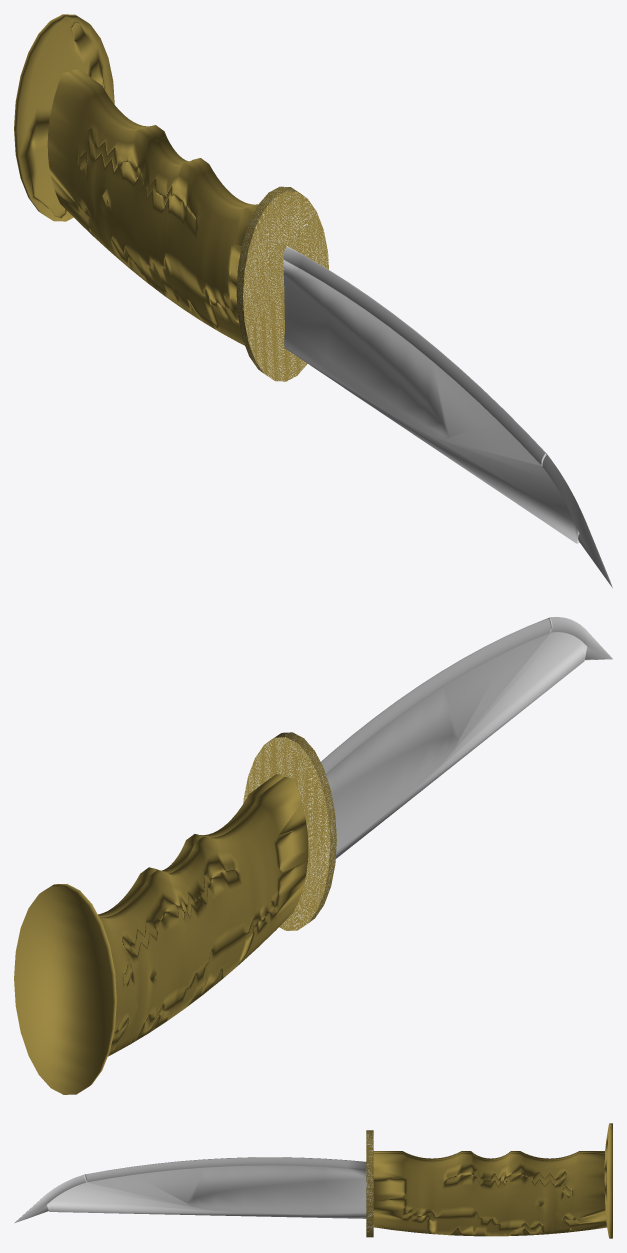
Rendered from model_align.obj.
The picture shows the model from 3 angles, top to bottom: view 1: azimuth 30°, elevation 25°; view 2: azimuth 150°, elevation 25°; view 3: azimuth 270°, elevation 25°; orthographic projection. The views are drawn at different scales.
Visible parts, largest first — view 1: mesh5_mesh5-geometry, mesh3_mesh3-geometry, mesh4_mesh4-geometry, mesh1_mesh1-geometry, mesh2_mesh2-geometry; view 2: mesh3_mesh3-geometry, mesh5_mesh5-geometry, mesh1_mesh1-geometry, mesh4_mesh4-geometry, mesh2_mesh2-geometry; view 3: mesh2_mesh2-geometry, mesh6_mesh6-geometry, mesh1_mesh1-geometry, mesh4_mesh4-geometry, mesh3_mesh3-geometry.
Boxes of the visible parts, x1=… form: mesh5_mesh5-geometry: x1=283, y1=246, x2=612, y2=587; mesh3_mesh3-geometry: x1=47, y1=71, x2=256, y2=345; mesh4_mesh4-geometry: x1=236, y1=186, x2=328, y2=381; mesh1_mesh1-geometry: x1=14, y1=14, x2=114, y2=221; mesh2_mesh2-geometry: x1=70, y1=68, x2=257, y2=207; mesh3_mesh3-geometry: x1=99, y1=776, x2=308, y2=1056; mesh5_mesh5-geometry: x1=321, y1=617, x2=612, y2=858; mesh1_mesh1-geometry: x1=14, y1=884, x2=116, y2=1094; mesh4_mesh4-geometry: x1=243, y1=732, x2=336, y2=930; mesh2_mesh2-geometry: x1=98, y1=774, x2=284, y2=917; mesh2_mesh2-geometry: x1=373, y1=1153, x2=606, y2=1236; mesh6_mesh6-geometry: x1=14, y1=1157, x2=366, y2=1223; mesh1_mesh1-geometry: x1=604, y1=1123, x2=612, y2=1238; mesh4_mesh4-geometry: x1=366, y1=1130, x2=373, y2=1237; mesh3_mesh3-geometry: x1=373, y1=1151, x2=604, y2=1160.
Bounding box in the file's own units: 0.023 × 0.0462 × 0.2227.
